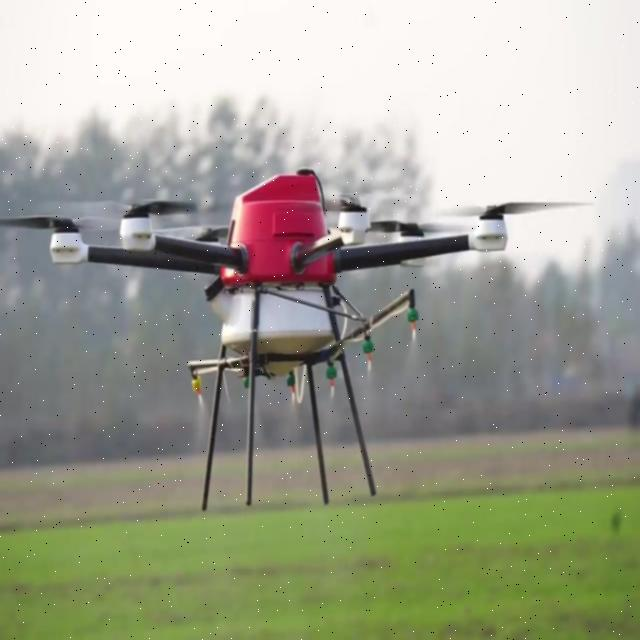UAV: (0, 167, 590, 515)
